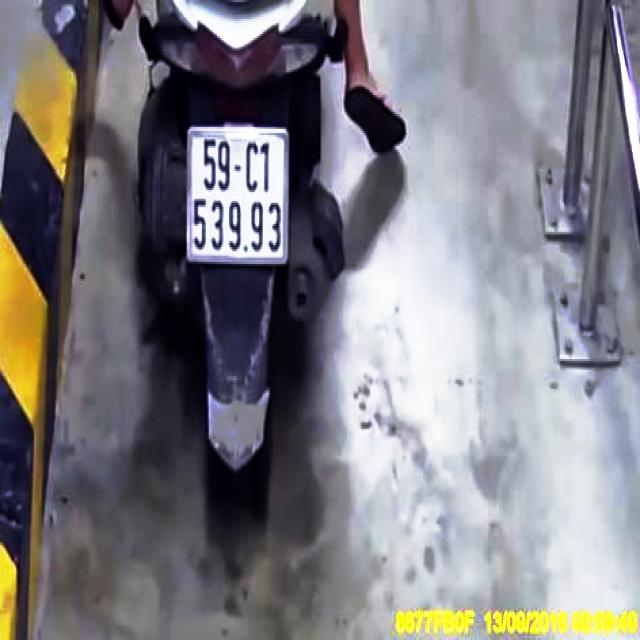license_plate: (190, 133, 288, 259)
